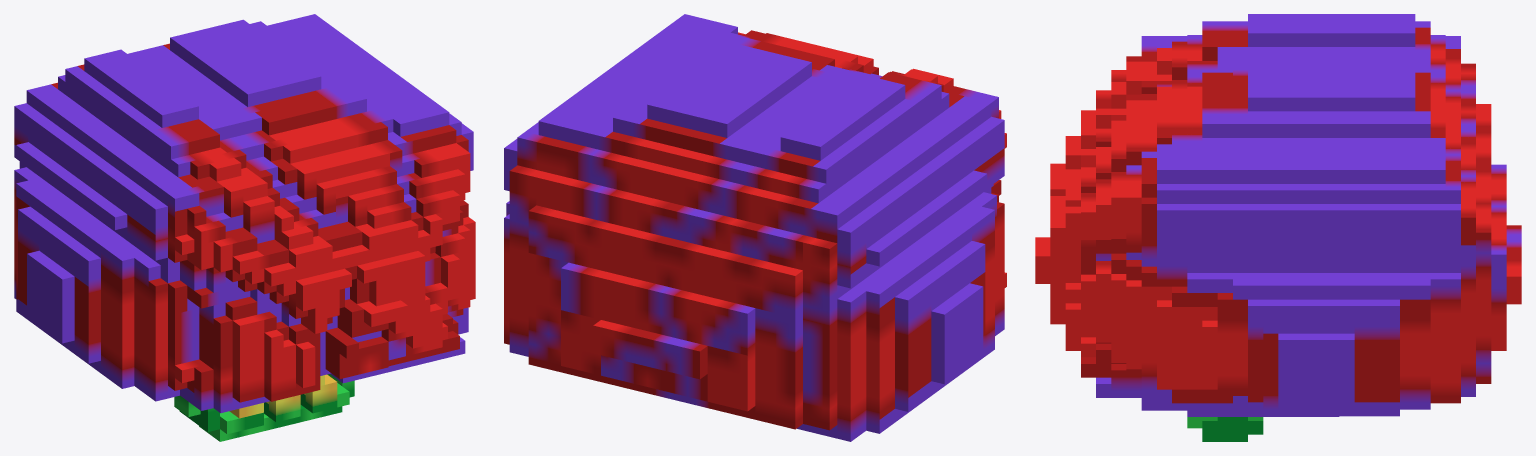
Rendered from Matrix_10.fbx.
3 views of the same model, side by side, from view 1: azimuth 30°, elevation 25°; view 2: azimuth 150°, elevation 25°; view 3: azimuth 270°, elevation 25° (orthographic). The views are drawn at different scales.
Parts seen in each view (by area): view 1: Matrix_10; view 2: Matrix_10; view 3: Matrix_10.
Part boxes in pixels (bbox=[...]): Matrix_10: bbox=[14, 14, 475, 441]; Matrix_10: bbox=[504, 14, 1006, 441]; Matrix_10: bbox=[1035, 14, 1521, 441].
Size of the model in its own units: 32 by 25 by 32.
